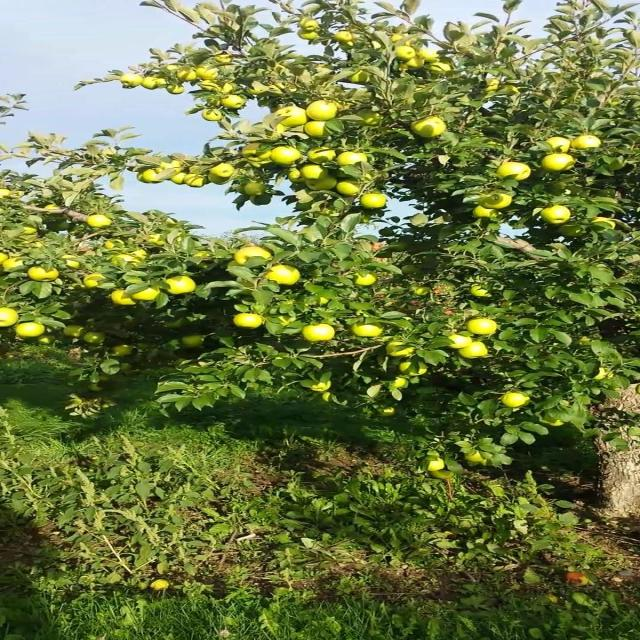apple: (412, 120, 448, 139), (163, 276, 197, 295), (276, 108, 308, 128), (497, 164, 533, 180), (241, 144, 272, 162), (305, 324, 334, 342), (269, 268, 299, 285), (113, 252, 149, 266), (468, 320, 498, 336), (461, 344, 491, 360), (262, 124, 288, 142), (547, 156, 576, 172), (483, 192, 512, 208), (312, 104, 340, 120), (276, 148, 302, 165), (312, 176, 338, 192), (241, 248, 270, 262), (305, 124, 332, 139), (28, 268, 59, 281), (340, 152, 370, 165), (547, 208, 571, 224), (355, 324, 384, 337), (390, 344, 418, 357), (575, 136, 603, 149), (312, 148, 334, 164), (191, 252, 213, 268), (234, 316, 263, 328), (504, 396, 532, 408), (134, 288, 162, 300), (490, 84, 519, 95), (113, 292, 137, 305), (20, 324, 44, 337), (547, 140, 572, 152), (447, 336, 471, 348), (362, 196, 386, 208), (492, 80, 512, 94), (340, 184, 363, 196), (212, 164, 235, 176), (84, 332, 107, 344), (404, 364, 427, 376), (84, 276, 107, 288), (6, 308, 21, 326), (92, 216, 114, 228), (305, 168, 327, 180), (184, 336, 206, 348), (227, 96, 249, 108), (120, 76, 142, 88), (141, 80, 165, 91), (248, 84, 270, 96), (362, 112, 382, 125), (198, 68, 219, 80), (397, 48, 418, 60), (198, 80, 219, 92), (141, 172, 162, 184), (433, 64, 455, 75), (355, 276, 377, 287), (419, 52, 441, 63), (248, 184, 267, 196), (220, 84, 240, 95), (497, 84, 519, 94), (148, 236, 167, 247), (269, 84, 288, 95), (596, 220, 619, 229), (476, 208, 496, 218), (177, 72, 199, 81), (291, 168, 304, 183), (163, 320, 187, 328), (404, 60, 425, 69), (468, 452, 485, 463), (191, 176, 206, 188), (355, 72, 370, 84), (561, 228, 581, 237), (433, 472, 455, 480), (298, 32, 320, 40), (113, 348, 135, 356), (255, 196, 270, 207), (198, 252, 213, 263), (412, 288, 432, 296), (163, 164, 183, 172), (276, 316, 293, 325), (63, 260, 82, 268), (312, 384, 331, 392), (340, 40, 356, 49), (113, 180, 126, 191), (321, 68, 334, 79), (163, 164, 183, 171), (205, 112, 222, 120), (212, 176, 229, 184), (20, 228, 37, 236), (42, 204, 59, 212), (70, 328, 85, 337), (433, 460, 448, 469), (390, 36, 409, 43), (6, 260, 20, 269), (170, 88, 185, 96), (476, 288, 491, 296), (383, 408, 398, 416), (220, 56, 235, 64), (170, 176, 185, 184), (307, 20, 320, 29), (404, 268, 420, 275), (547, 420, 562, 427), (340, 32, 354, 39), (397, 380, 409, 388), (433, 288, 446, 295), (106, 240, 116, 249), (92, 384, 103, 392), (42, 336, 52, 344), (326, 392, 334, 401), (582, 340, 590, 345)
